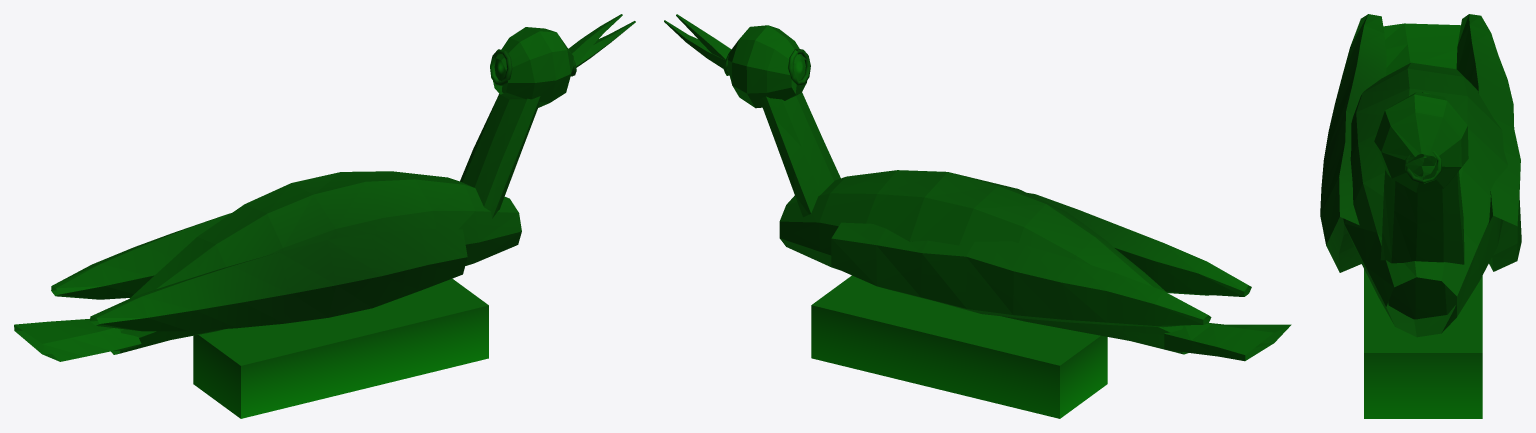
File: lintel_gull_open.glb
The picture shows the model from 3 angles, left to right: view 1: azimuth 30°, elevation 25°; view 2: azimuth 150°, elevation 25°; view 3: azimuth 270°, elevation 25°; orthographic projection. The views are drawn at different scales.
Parts seen in each view (by area): view 1: lintel_gull_open; view 2: lintel_gull_open; view 3: lintel_gull_open.
Boxes of the visible parts, <box> form: lintel_gull_open: <box>14,14,635,418</box>; lintel_gull_open: <box>664,14,1291,418</box>; lintel_gull_open: <box>1320,14,1521,418</box>.
Size of what is drawn, in the model's own units: 0.9171 by 0.4304 by 0.214.
